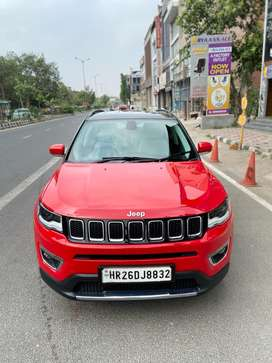HR26DJ8832: (102, 266, 172, 282)
